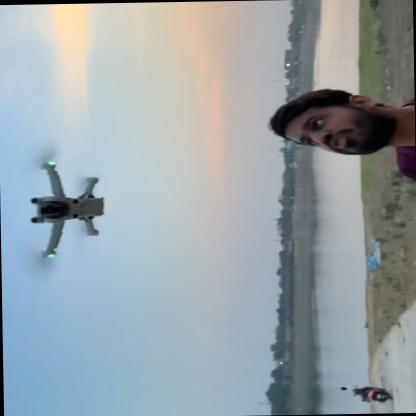drone: (8, 152, 118, 271)
